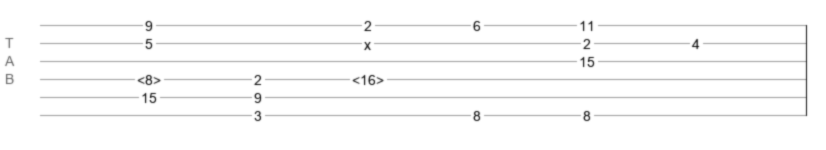11: (579, 18, 595, 28)
15: (141, 90, 157, 100), (579, 54, 595, 64)
2: (254, 72, 262, 82), (364, 18, 372, 28), (583, 36, 591, 46)
3: (254, 108, 262, 118)
4: (692, 36, 700, 46)
5: (145, 36, 153, 46)
6: (473, 18, 481, 28)
8: (473, 108, 481, 118), (583, 108, 591, 118)
9: (145, 18, 153, 28), (254, 90, 262, 100)
harmonic: (352, 72, 384, 82), (137, 72, 161, 82)
x: (364, 37, 371, 45)
